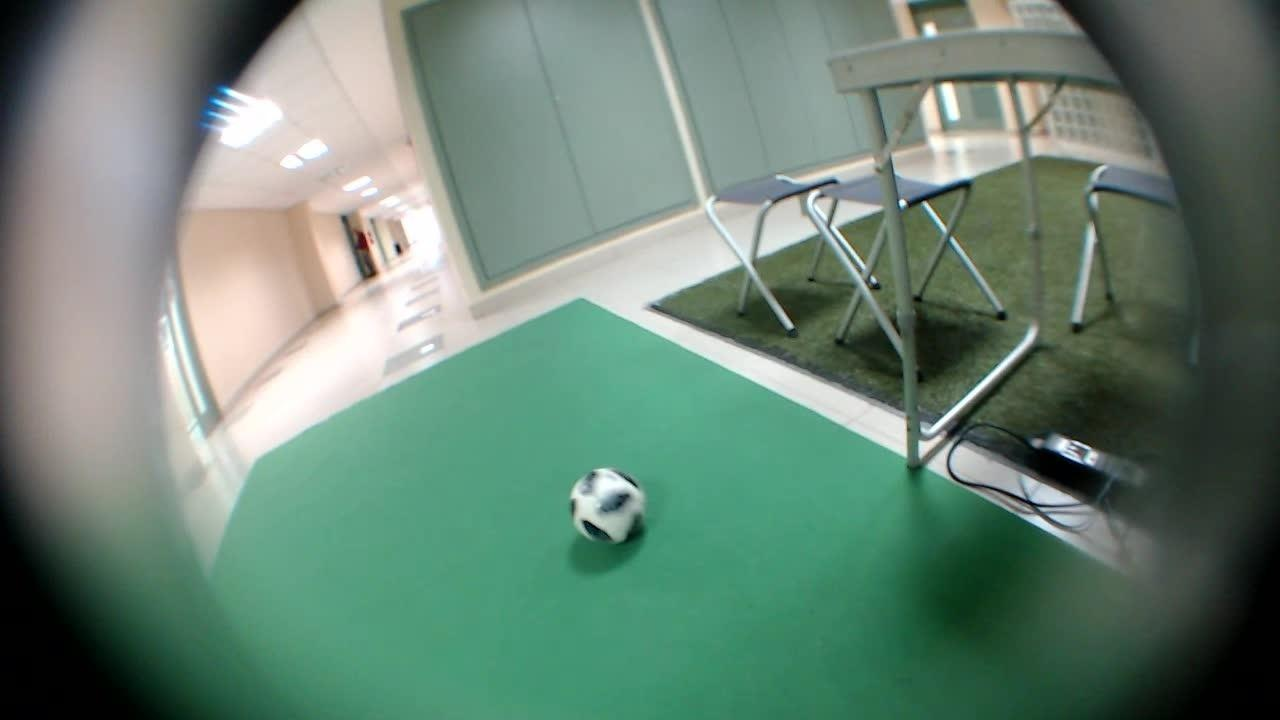ball: (554, 452, 653, 556)
